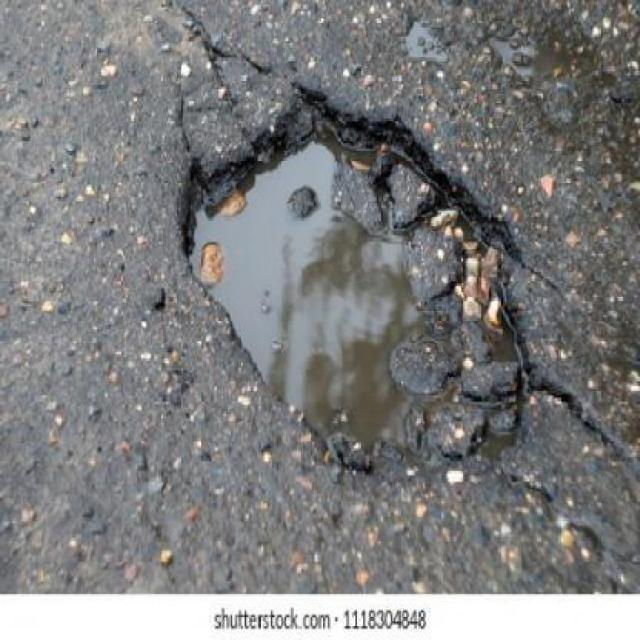Buraco: (172, 77, 588, 486)
